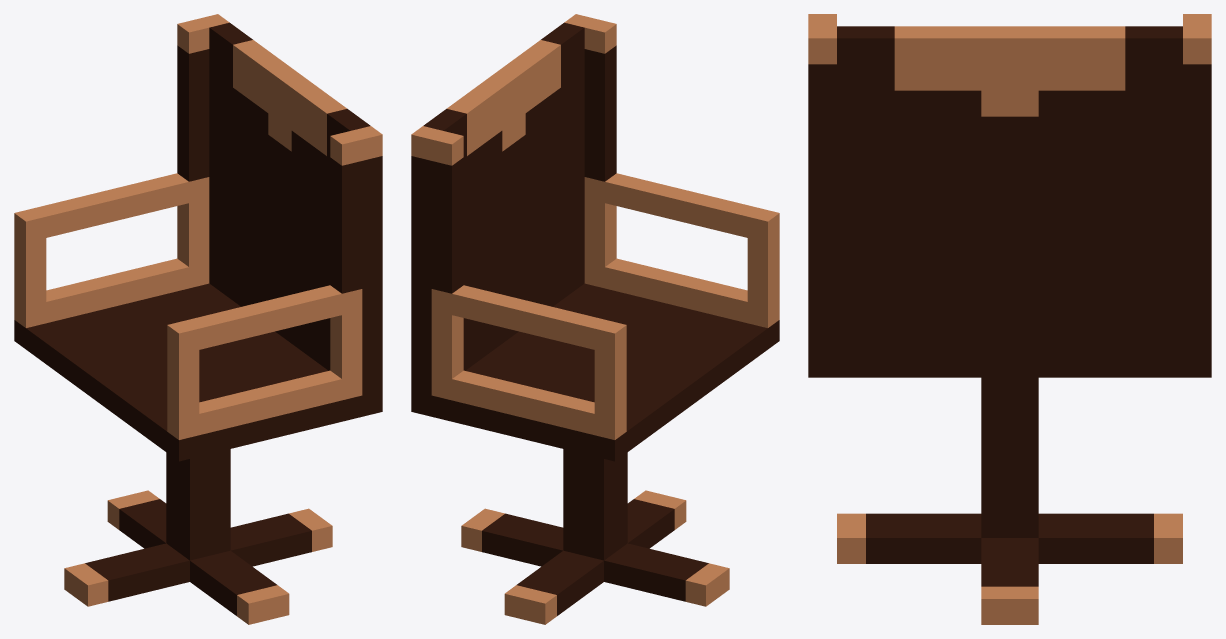
Rendered from officeChair.obj.
3 renders of one model, left to right at view 1: azimuth 30°, elevation 25°; view 2: azimuth 150°, elevation 25°; view 3: azimuth 270°, elevation 25°, orthographic. The views are drawn at different scales.
Bounding box in the file's own units: 1.2 × 2.2 × 1.4.
Materials: 1 (1 with a texture image).
